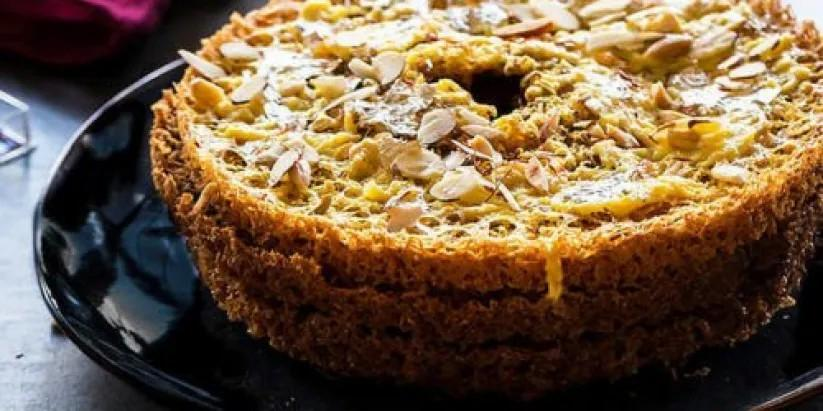Ghevar: (147, 0, 823, 384)
